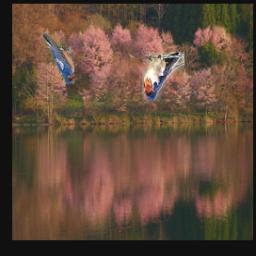Swallow: (143, 53, 185, 102), (42, 34, 74, 85)
